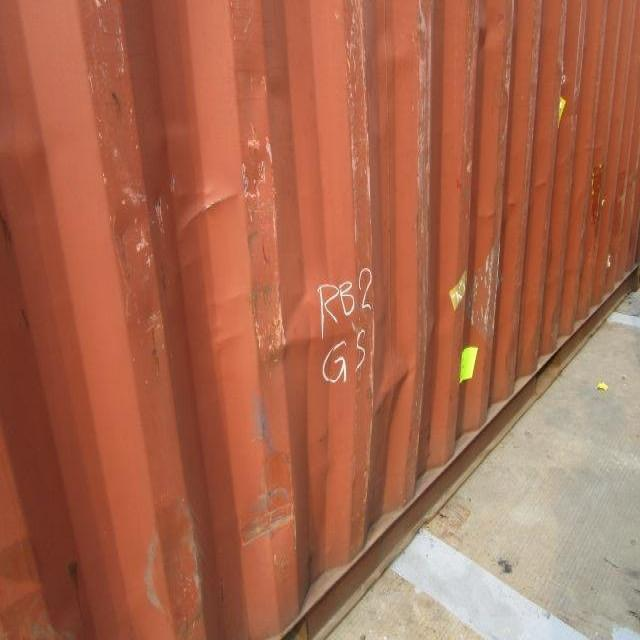dent: (149, 226, 474, 513)
